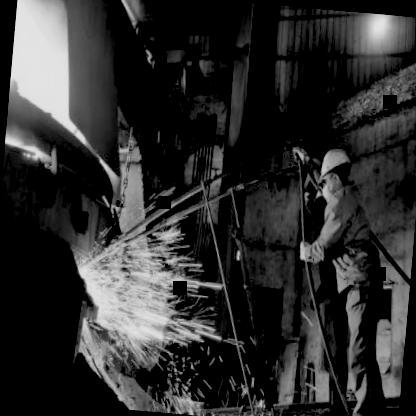helmet: (314, 140, 358, 214)
